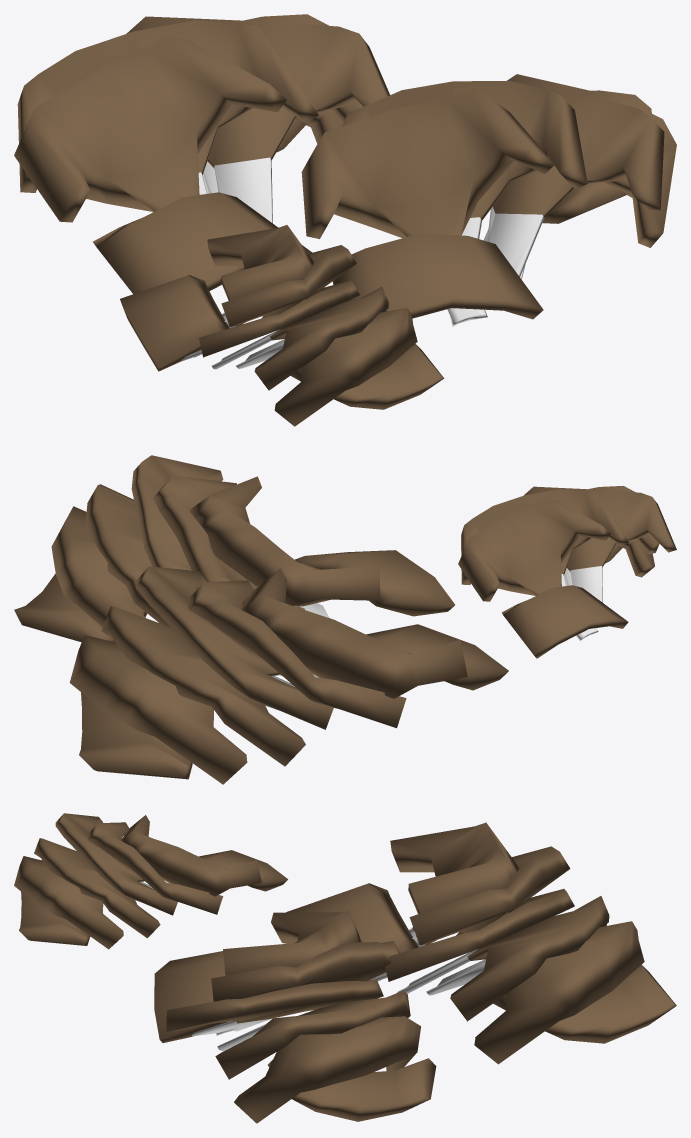
Rendered from choppedMushrooms.fbx.
3 views of the same model, one above another, from view 1: azimuth 30°, elevation 25°; view 2: azimuth 150°, elevation 25°; view 3: azimuth 270°, elevation 25° (orthographic). The views are drawn at different scales.
Parts seen in each view (by area): view 1: Cube.002, Cube.009, Cube.004, Cube.011, Cube.008, Cube.003, Cube.001, Cube.010, Cube.020, Cube.015, Cube.021, Cube.016 (+8 smaller); view 2: Cube.002, Cube.006, Cube.016, Cube.007, Cube.009, Cube.004, Cube.003, Cube.005, Cube.013, Cube.015, Cube.008, Cube.014 (+8 smaller); view 3: Cube.006, Cube.013, Cube.007, Cube.002, Cube.011, Cube.014, Cube.010, Cube.003, Cube.012, Cube.005, Cube.009, Cube.004 (+9 smaller).
Part boxes in pixels (x1,y1,x2,y2): Cube.002: [14, 36, 286, 222]; Cube.009: [301, 90, 554, 327]; Cube.004: [207, 23, 389, 223]; Cube.011: [488, 97, 664, 276]; Cube.008: [332, 233, 543, 319]; Cube.003: [17, 20, 318, 194]; Cube.001: [93, 192, 312, 293]; Cube.010: [342, 81, 587, 238]; Cube.020: [236, 307, 417, 426]; Cube.015: [120, 275, 229, 371]; Cube.021: [211, 286, 388, 390]; Cube.016: [207, 225, 313, 327]; Cube.002: [241, 568, 467, 698]; Cube.006: [69, 635, 278, 784]; Cube.016: [458, 497, 610, 641]; Cube.007: [101, 606, 305, 766]; Cube.009: [190, 476, 380, 606]; Cube.004: [135, 566, 333, 729]; Cube.003: [187, 580, 406, 728]; Cube.005: [79, 692, 192, 779]; Cube.013: [51, 506, 145, 626]; Cube.015: [501, 585, 628, 658]; Cube.008: [295, 550, 454, 616]; Cube.014: [85, 484, 170, 626]; Cube.006: [426, 921, 644, 1064]; Cube.013: [234, 1016, 420, 1123]; Cube.007: [397, 896, 609, 1021]; Cube.002: [390, 822, 518, 946]; Cube.011: [166, 979, 383, 1036]; Cube.014: [215, 990, 410, 1079]; Cube.010: [211, 941, 399, 1035]; Cube.003: [377, 846, 570, 981]; Cube.012: [268, 1058, 436, 1121]; Cube.005: [493, 964, 676, 1043]; Cube.009: [223, 910, 361, 975]; Cube.004: [369, 889, 574, 981].
Bounding box in the file's own units: 183 × 151 × 44.23.
